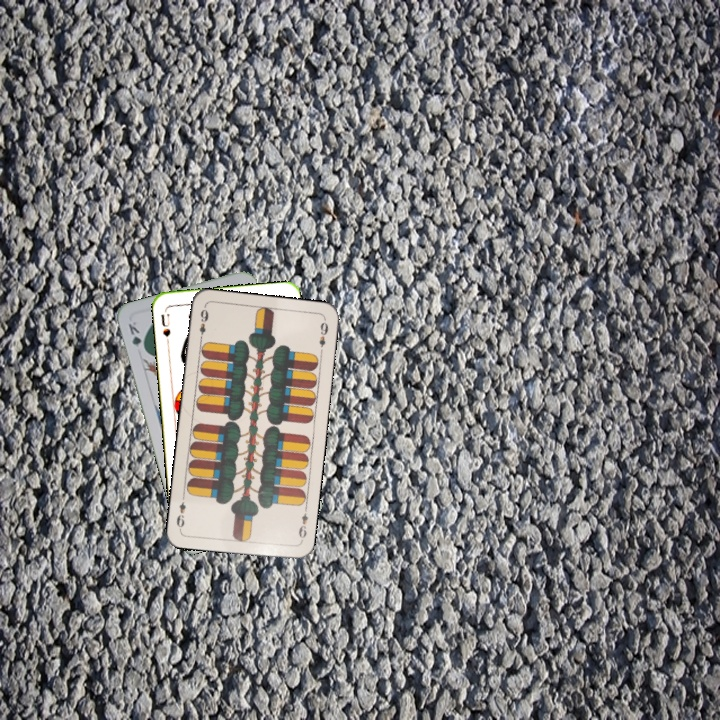E9: (195, 305, 211, 344), (295, 504, 310, 545)
GK: (124, 317, 148, 355)
SU: (157, 306, 173, 347)
